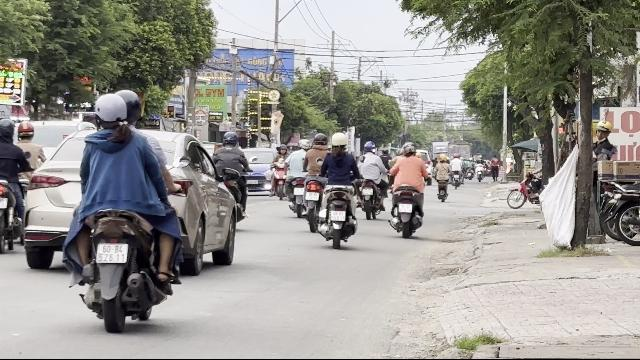helmet: (92, 92, 128, 132), (115, 89, 143, 127), (0, 118, 16, 142), (16, 120, 34, 140), (330, 132, 348, 152)
licenseplate: (97, 243, 127, 262), (330, 210, 346, 220)
motorcyclist: (59, 87, 184, 331), (317, 131, 359, 247), (1, 119, 32, 254)
